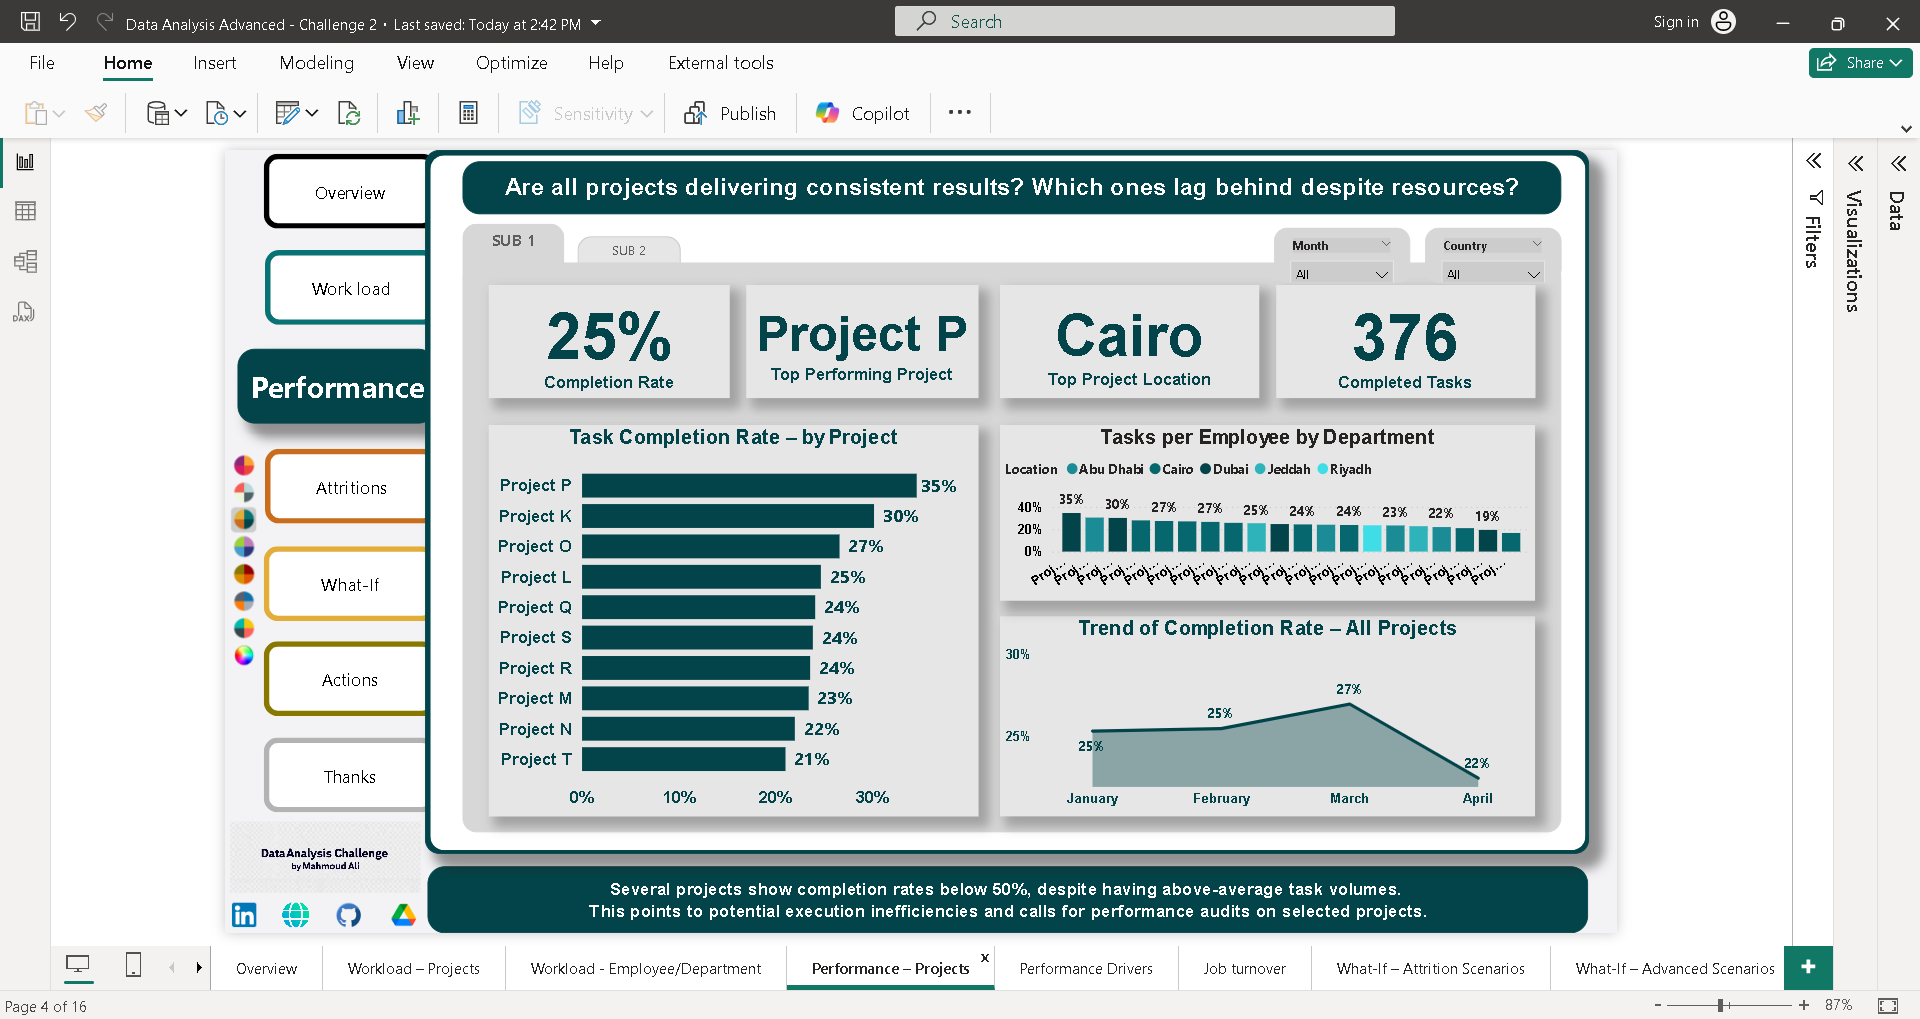

Layout of this report page (visuals, bound fields, positions):
{"tool":"powerbi","page":{"name":"Performance – Projects","canvas":[1280,720],"ordinal":3},"visuals":[{"type":"ChicletSlicer1448559807354","fields":{"Category":["Sheet1.Color Scheme"],"Image":["Sheet1.URL"]},"box":[0,272.5,35,251.2],"z":0},{"type":"image","box":[146.2,687.5,37.5,32.5],"z":1000},{"type":"image","box":[90,687.5,48.8,32.5],"z":2000},{"type":"image","box":[47.5,687.5,36.2,32.5],"z":3000},{"type":"image","box":[0,687.5,35,32.5],"z":4000},{"type":"image","box":[0,612.5,185,75],"z":5000},{"type":"textbox","box":[185.9,659,1067.5,61.2],"z":6000},{"type":"actionButton","title":"Button","box":[36.7,274.4,158.9,68.9],"z":7000},{"type":"actionButton","title":"Button","box":[35.6,364.4,158.9,68.9],"z":8000},{"type":"actionButton","box":[11.2,182.5,182.5,68.8],"z":9000},{"type":"actionButton","title":"Button","box":[35.6,3.3,158.9,68.9],"z":10000},{"type":"actionButton","title":"Button","box":[35.6,452.2,158.9,68.9],"z":11000},{"type":"actionButton","title":"Button","box":[35.6,540,158.9,68.9],"z":12000},{"type":"actionButton","title":"Button","box":[36.7,92.2,158.9,68.9],"z":13000},{"type":"actionButton","box":[183.8,0,1070,647.5],"z":14000},{"type":"actionButton","box":[323.8,78.8,95,50],"z":15000},{"type":"basicShape","box":[218.8,103.8,1010,523.8],"z":16000},{"type":"actionButton","box":[218.8,67.5,93.8,57.5],"z":17000},{"type":"barChart","title":"Task Completion Rate – by Project","fields":{"Category":["Advanced_Projects.Project Name"],"Y":["Measures Table.Completion Rate"]},"box":[242.5,252.5,450,360],"z":18000},{"type":"areaChart","title":"Trend of Completion Rate – All Projects","fields":{"Y":["Measures Table.Completion Rate"],"Category":["Advanced_Tasks.Date.Variation.Date Hierarchy.Month"]},"box":[712.8,428.4,492.3,184.1],"z":19000},{"type":"columnChart","title":"Tasks per Employee by Department","fields":{"Category":["Advanced_Projects.Project Name"],"Series":["Advanced_Projects.Location"],"Y":["Measures Table.Completion Rate"]},"box":[712.8,253,492.3,161.6],"z":20000},{"type":"card","fields":{"Values":["Measures Table.Completion Rate"]},"box":[242.5,123.8,221.2,103.8],"z":21000},{"type":"card","fields":{"Values":["Measures Table.Top Performing Project"]},"box":[478.8,123.8,213.8,103.8],"z":22000},{"type":"card","fields":{"Values":["Measures Table.Top Project Location"]},"box":[712.8,124,238,104],"z":23000},{"type":"card","fields":{"Values":["Measures Table.Completed Tasks"]},"box":[967.1,124,238,104],"z":24000},{"type":"textbox","box":[218.8,10,1010,48.8],"z":25000},{"type":"slicer","fields":{"Values":["Advanced_Employees.Country"]},"box":[1103.6,71.4,125.3,51.4],"z":26000},{"type":"slicer","fields":{"Values":["Advanced_Employees.Date of Joining.Variation.Date Hierarchy.Month"]},"box":[964.6,71.4,125.3,51.4],"z":27000}]}

Visuals, with their boxes on the page's 1280x720 design canvas (x1, y1, x2, y2). These are canvas units, not pixel positions in the 1920x1019 screenshot, which may show the page scaled, cropped or inside an application window:
ChicletSlicer1448559807354 - Sheet1.Color Scheme x Sheet1.URL: <box>0,272,35,524</box>
image: <box>146,688,184,720</box>
image: <box>90,688,139,720</box>
image: <box>48,688,84,720</box>
image: <box>0,688,35,720</box>
image: <box>0,612,185,688</box>
textbox: <box>186,659,1253,720</box>
"Button" actionButton: <box>37,274,196,343</box>
"Button" actionButton: <box>36,364,194,433</box>
actionButton: <box>11,182,194,251</box>
"Button" actionButton: <box>36,3,194,72</box>
"Button" actionButton: <box>36,452,194,521</box>
"Button" actionButton: <box>36,540,194,609</box>
"Button" actionButton: <box>37,92,196,161</box>
actionButton: <box>184,0,1254,648</box>
actionButton: <box>324,79,419,129</box>
basicShape: <box>219,104,1229,628</box>
actionButton: <box>219,68,313,125</box>
"Task Completion Rate – by Project" barChart: <box>242,252,692,612</box>
"Trend of Completion Rate – All Projects" areaChart: <box>713,428,1205,612</box>
"Tasks per Employee by Department" columnChart: <box>713,253,1205,415</box>
card - Measures Table.Completion Rate: <box>242,124,464,228</box>
card - Measures Table.Top Performing Project: <box>479,124,693,228</box>
card - Measures Table.Top Project Location: <box>713,124,951,228</box>
card - Measures Table.Completed Tasks: <box>967,124,1205,228</box>
textbox: <box>219,10,1229,59</box>
slicer - Advanced_Employees.Country: <box>1104,71,1229,123</box>
slicer - Advanced_Employees.Date of Joining.Variation.Date Hierarchy.Month: <box>965,71,1090,123</box>
